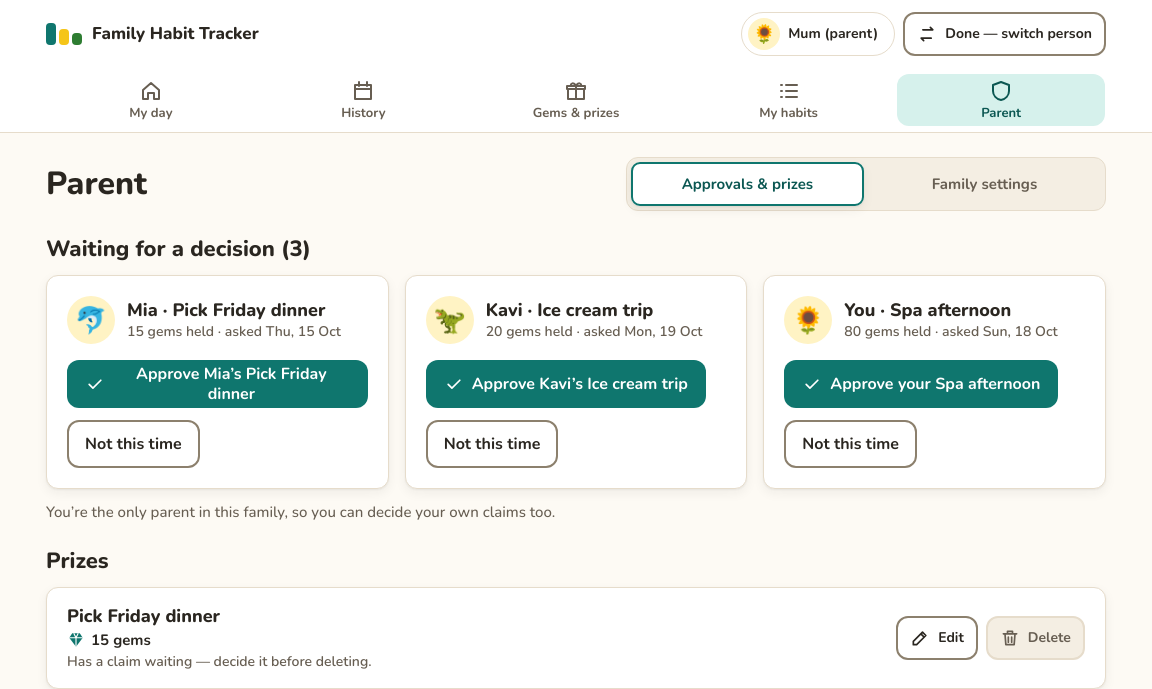
it: REQ-026 parents approve or decline claims › in a one-parent family the parent can decide their own claim (C5)
Expected: the text "You’re the only parent in this family, so you can decide your own claims too." is shown, [46,502,555,522]
Step 1. Click the button "Approve your Spa afternoon" → (921, 384), box [784,360,1058,408]
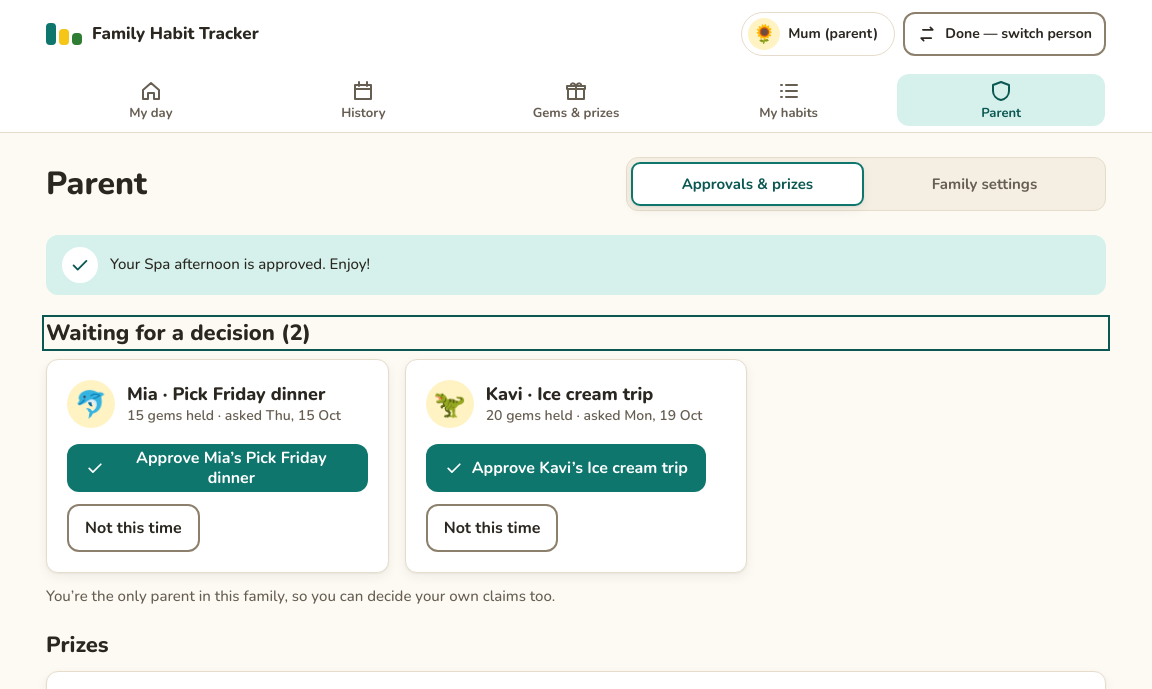
Now the text "Your Spa afternoon is approved. Enjoy!" is shown, box [110,254,370,274]
